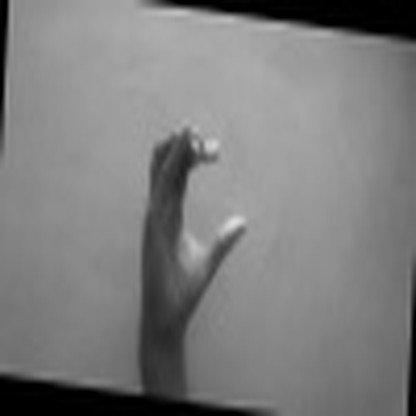c: (138, 112, 251, 311)
